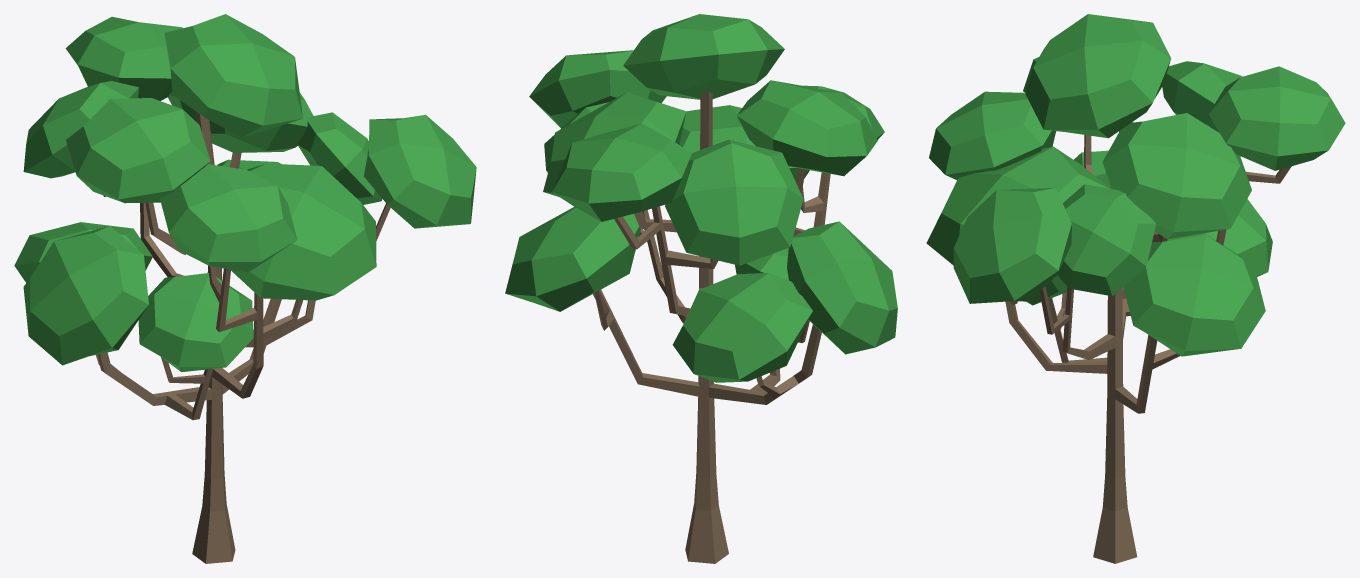
The model's file is tree_a_3.FBX.
3 renders of one model, left to right at view 1: azimuth 30°, elevation 25°; view 2: azimuth 150°, elevation 25°; view 3: azimuth 270°, elevation 25°, orthographic.
Parts seen in each view (by area): view 1: tree_a_3; view 2: tree_a_3; view 3: tree_a_3.
Part boxes in pixels (bbox=[...]): tree_a_3: bbox=[14, 14, 476, 563]; tree_a_3: bbox=[505, 14, 897, 563]; tree_a_3: bbox=[926, 14, 1345, 563].
Bounding box in the file's own units: 6.39 × 8.26 × 5.96.
